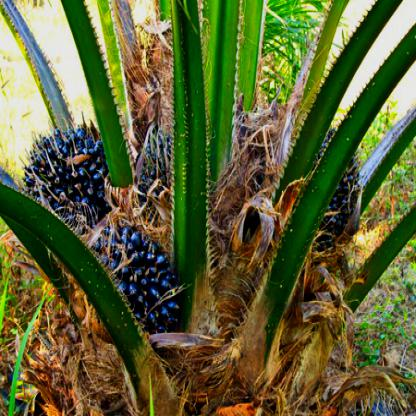palm-oil: (79, 218, 185, 342), (13, 121, 113, 226), (300, 124, 370, 256), (129, 127, 173, 197)
